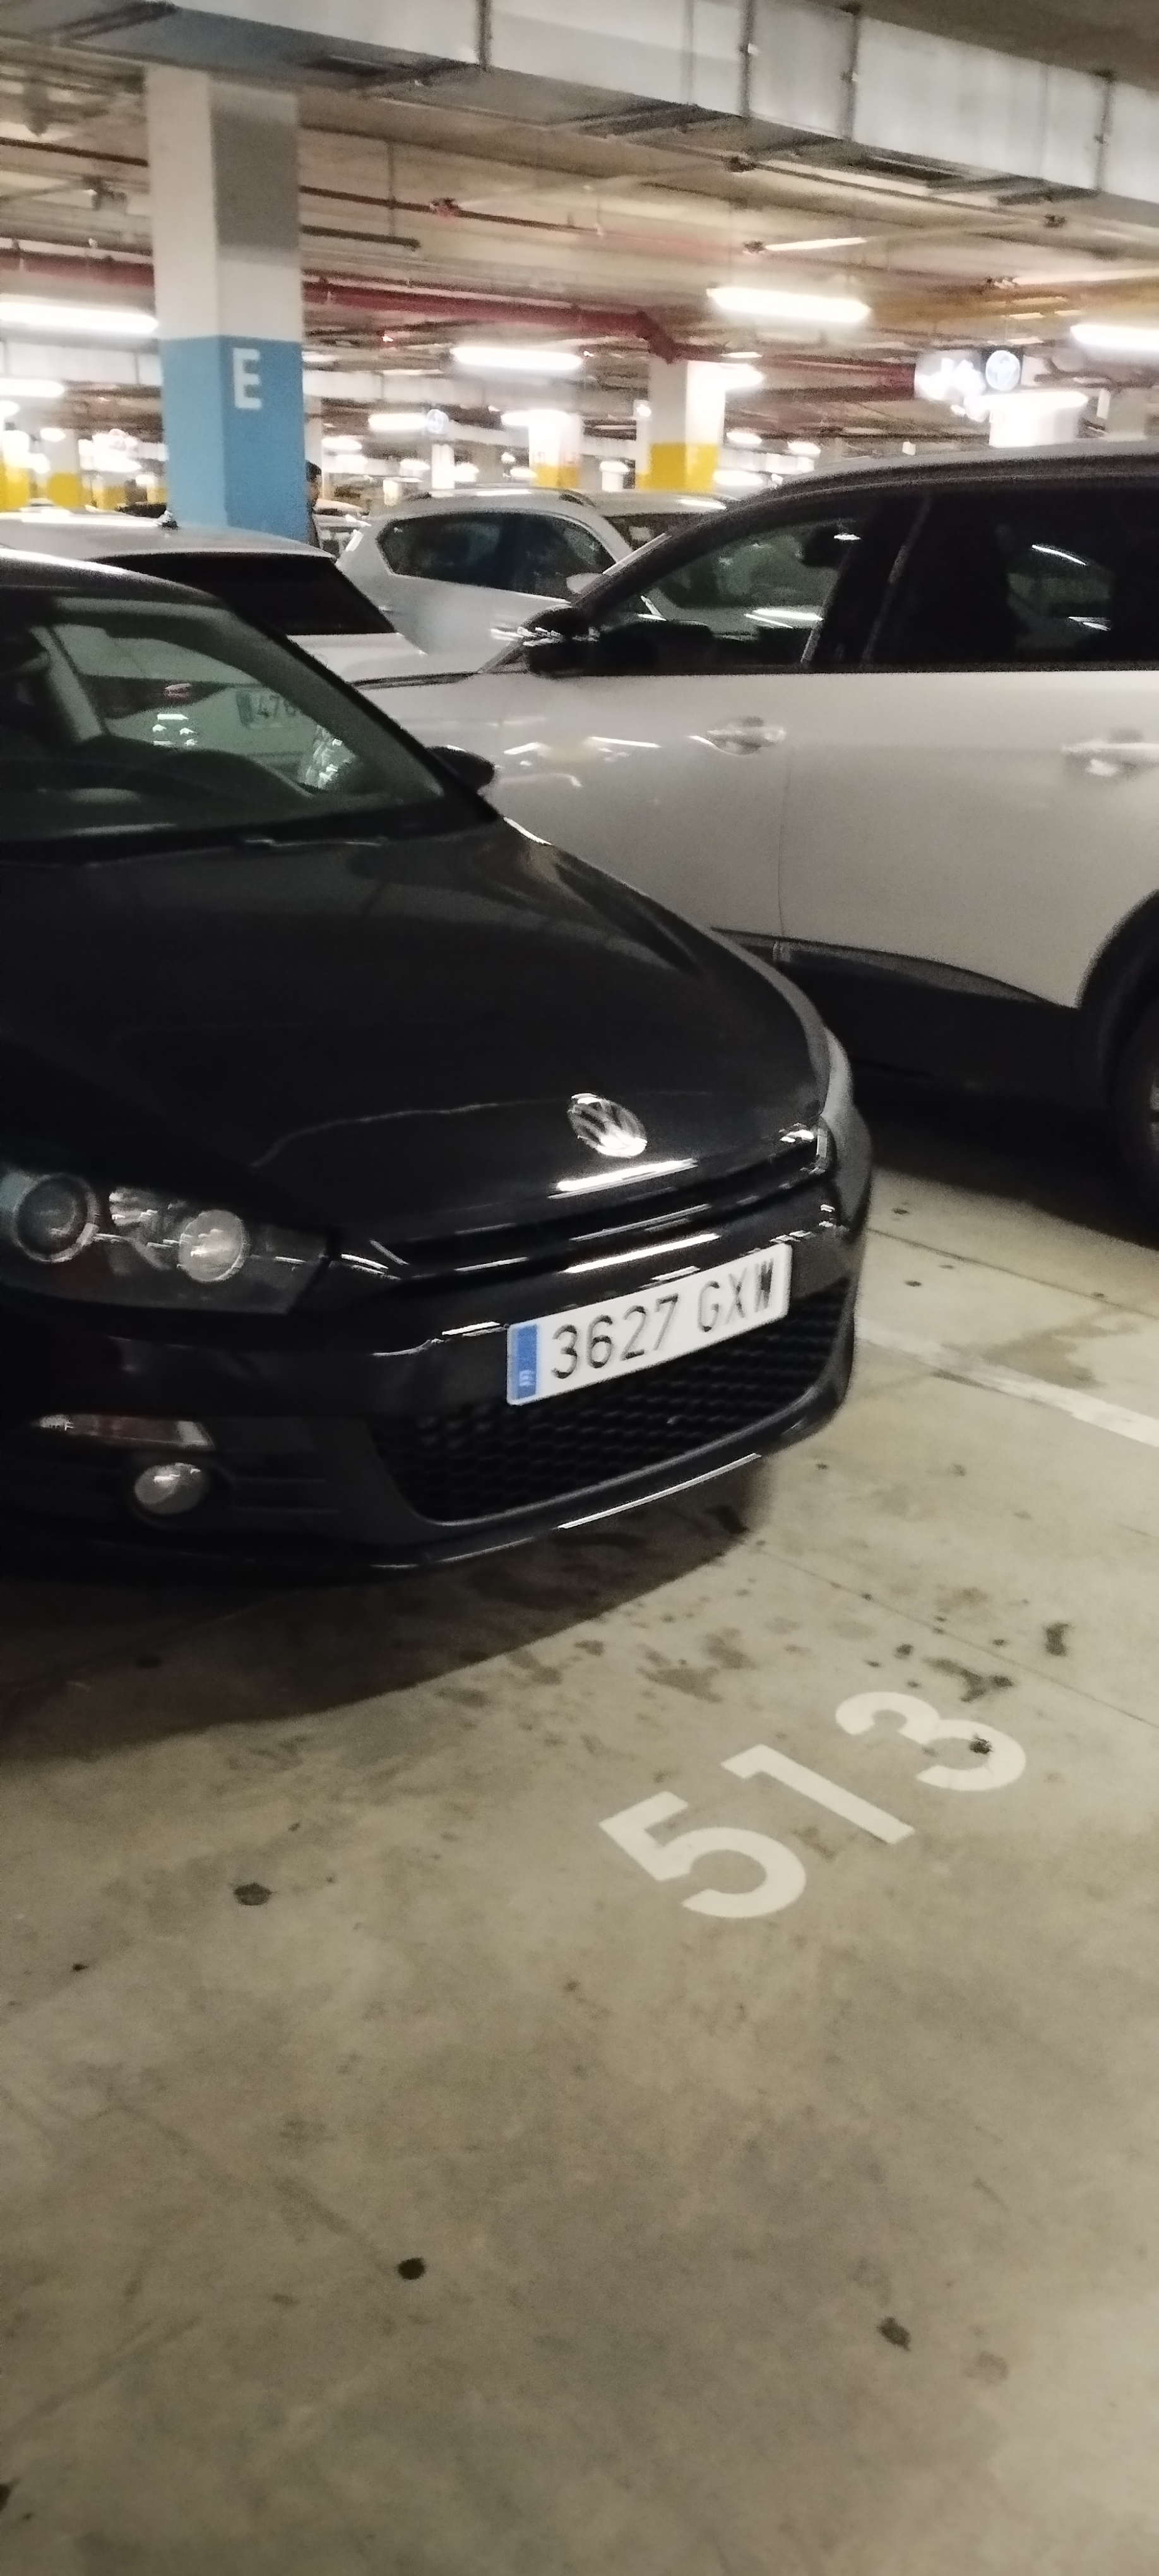Car: (0, 558, 853, 1580)
Plate: (471, 1340, 805, 1422)
